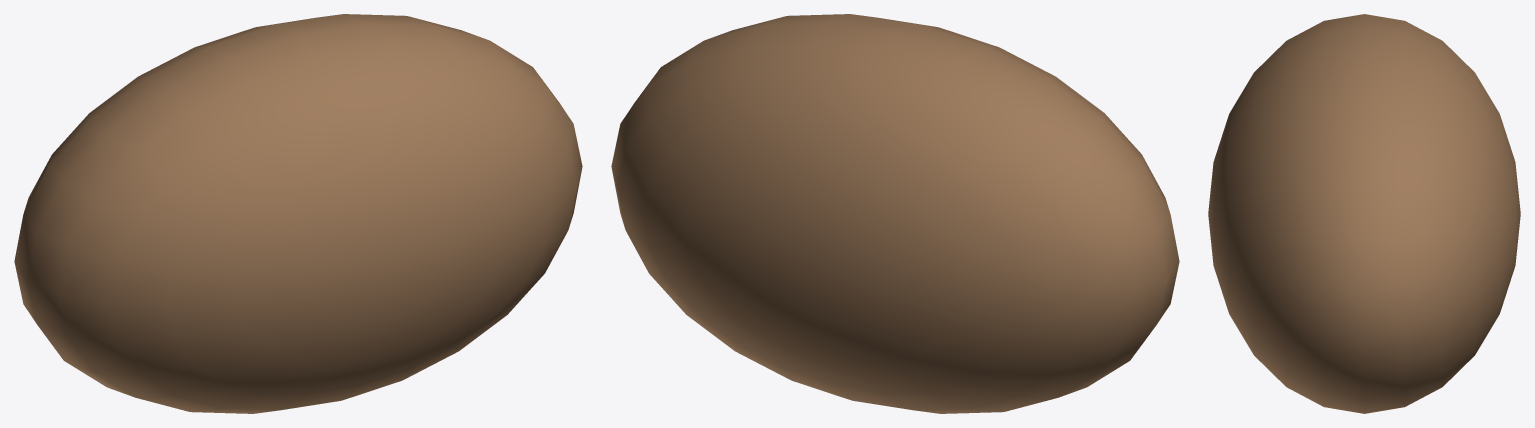
File: Prop_Basket.fbx
3 views of the same model, side by side, from view 1: azimuth 30°, elevation 25°; view 2: azimuth 150°, elevation 25°; view 3: azimuth 270°, elevation 25° (orthographic). The views are drawn at different scales.
Visible parts, largest first — view 1: Prop_Basket; view 2: Prop_Basket; view 3: Prop_Basket.
Boxes of the visible parts, bbox=[...] form: Prop_Basket: bbox=[14, 14, 582, 413]; Prop_Basket: bbox=[611, 14, 1179, 413]; Prop_Basket: bbox=[1208, 14, 1520, 413].
Size of the model in its own units: 0.76 by 0.48 by 0.42.
